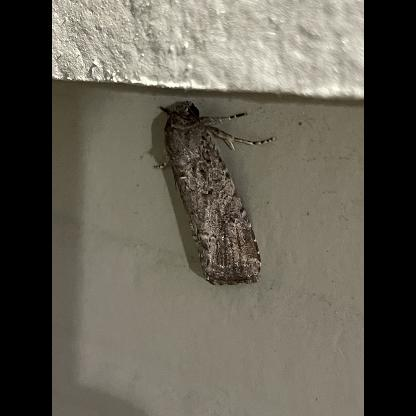Fall Armyworm Moth: (151, 98, 279, 288)
